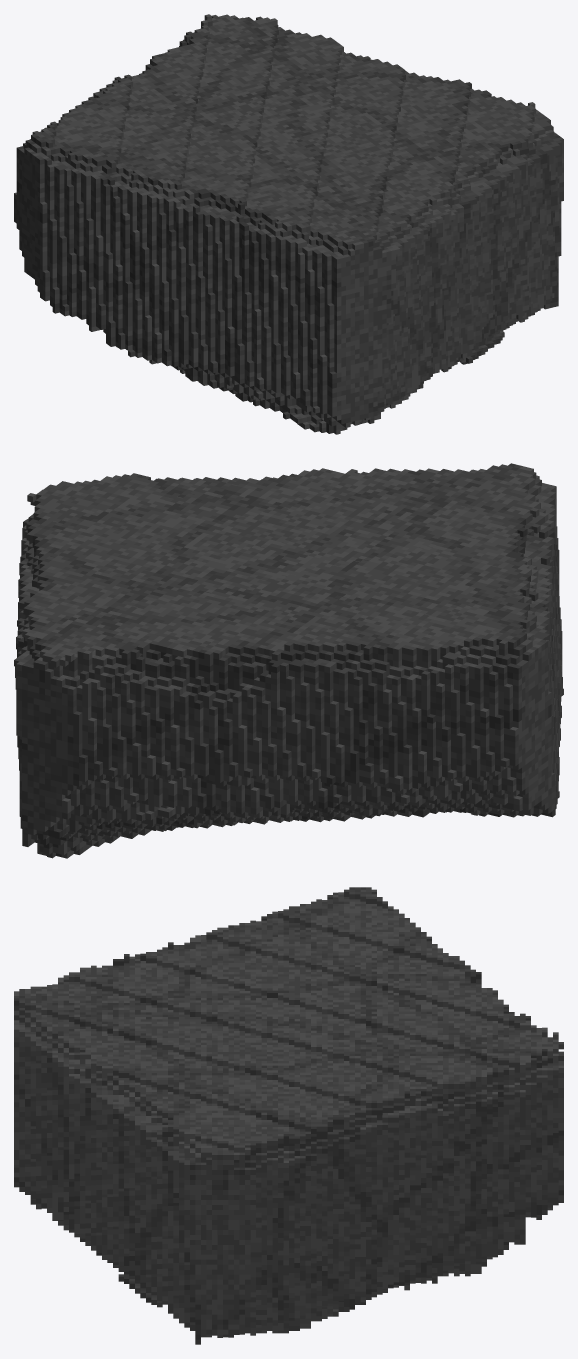
The model's file is Rocas-Gigantes-1.obj.
3 views of the same model, one above another, from view 1: azimuth 30°, elevation 25°; view 2: azimuth 150°, elevation 25°; view 3: azimuth 270°, elevation 25° (orthographic). The views are drawn at different scales.
Bounding box in the file's own units: 10 × 4.7 × 10.
1 material, 1 textured.
